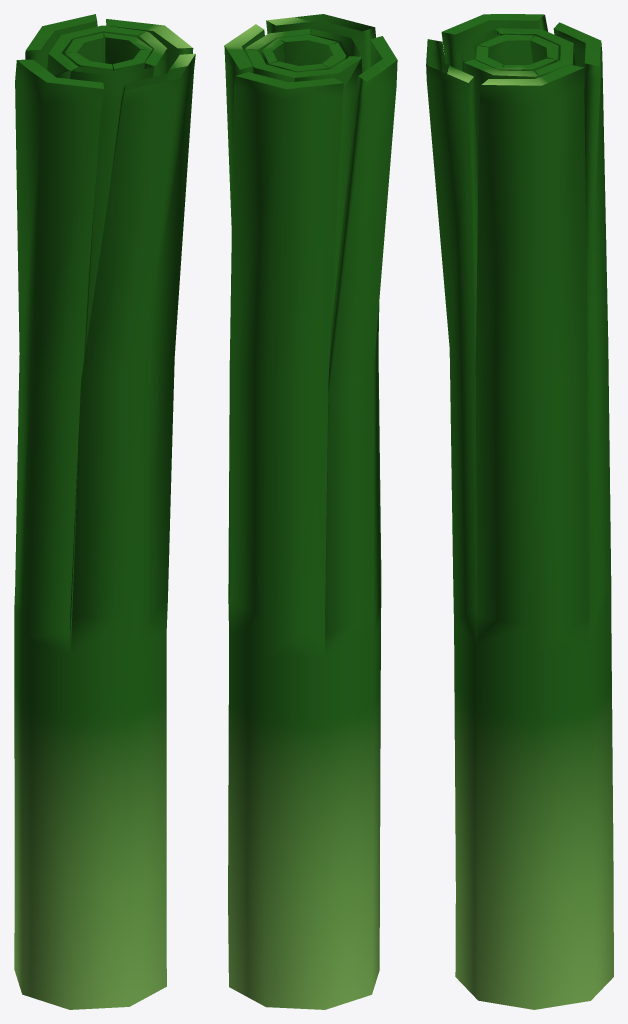
Rendered from onion2.fbx.
3 renders of one model, left to right at view 1: azimuth 30°, elevation 25°; view 2: azimuth 150°, elevation 25°; view 3: azimuth 270°, elevation 25°, orthographic.
Visible parts, largest first — view 1: GreenOnion.002; view 2: GreenOnion.002; view 3: GreenOnion.002.
Part boxes in pixels (left/top/right/bottom): GreenOnion.002: left=14, top=14, right=195, bottom=1009; GreenOnion.002: left=224, top=14, right=397, bottom=1009; GreenOnion.002: left=426, top=14, right=613, bottom=1009.
Size of the model in its own units: 39.54 by 237 by 43.45.
